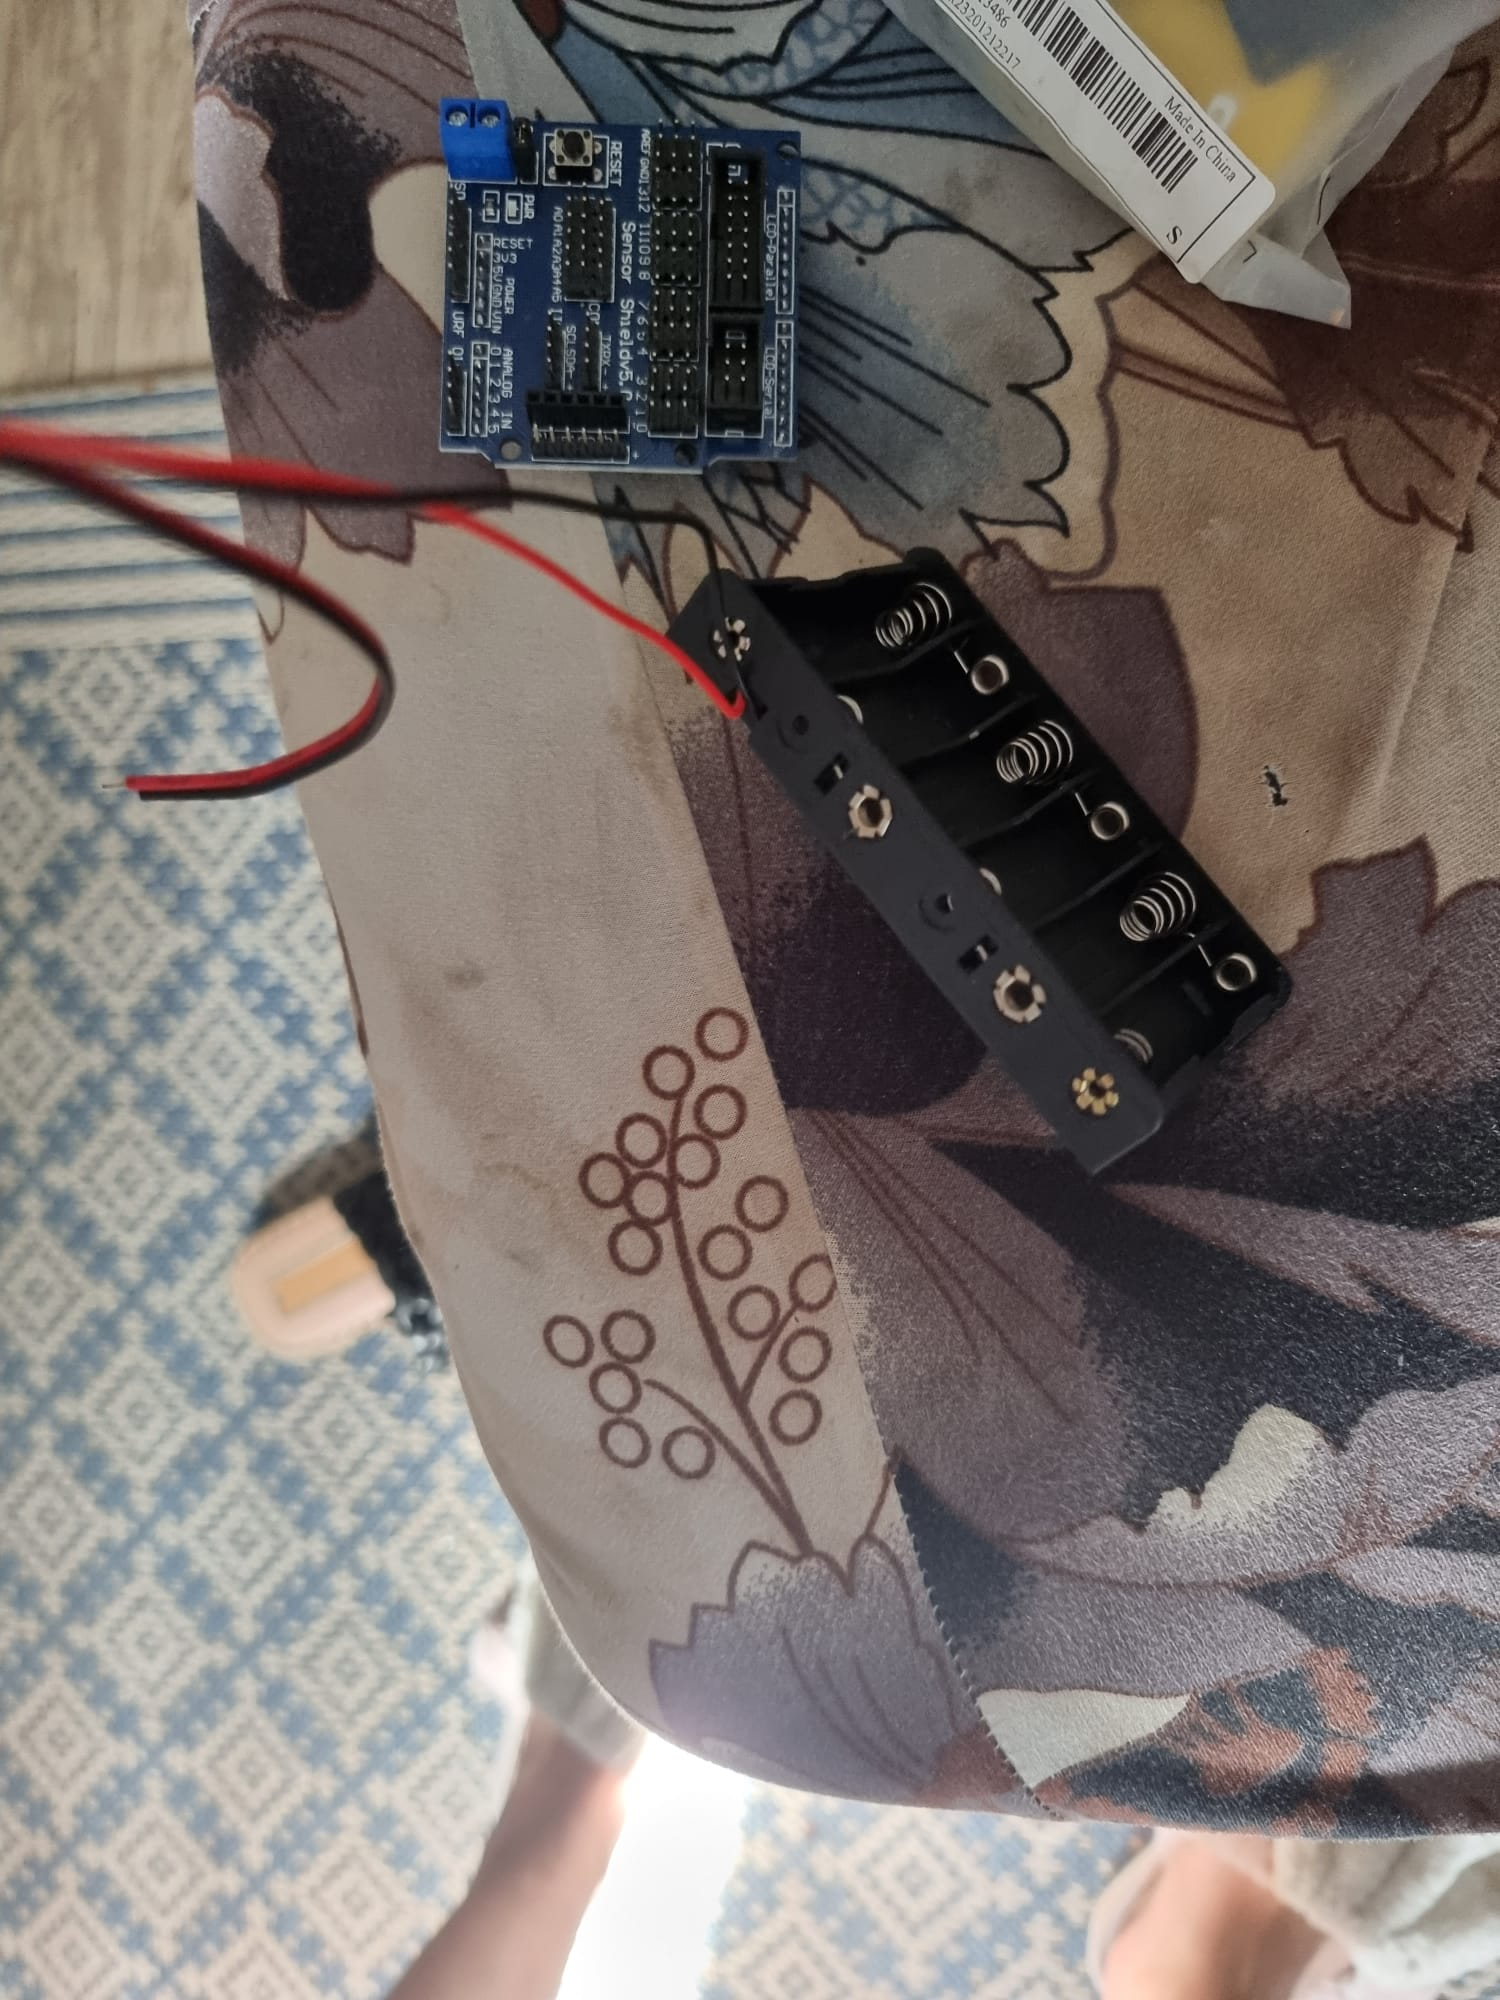5V EXPANSION: (425, 85, 800, 485)
BATTERY BOX: (704, 561, 1295, 1202)
